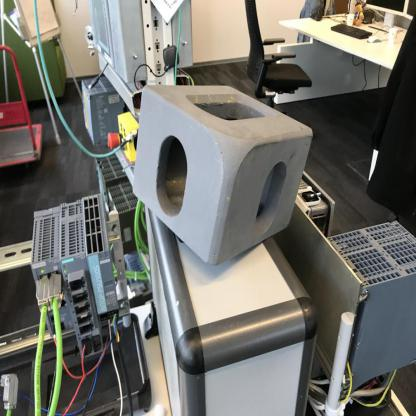CornerCasting: (130, 79, 314, 269)
